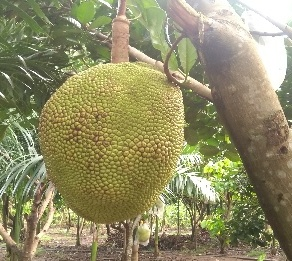Mit: (37, 62, 186, 227)
